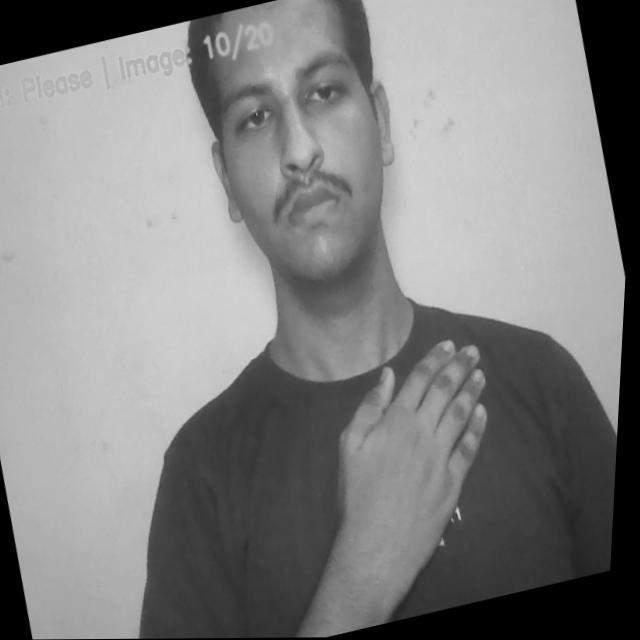Please: (305, 332, 533, 581)
